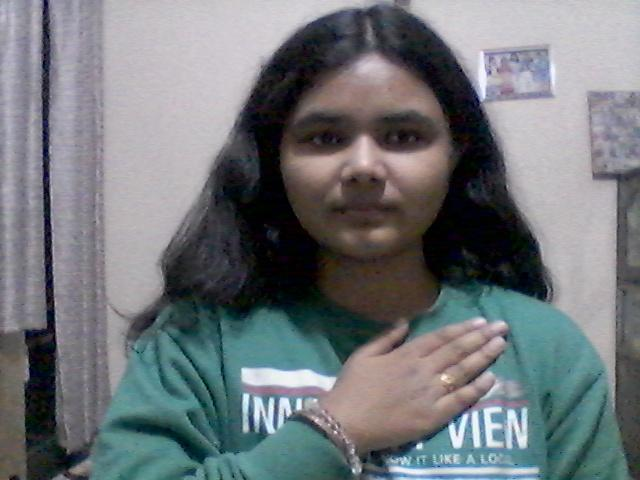please: (296, 311, 516, 458)
